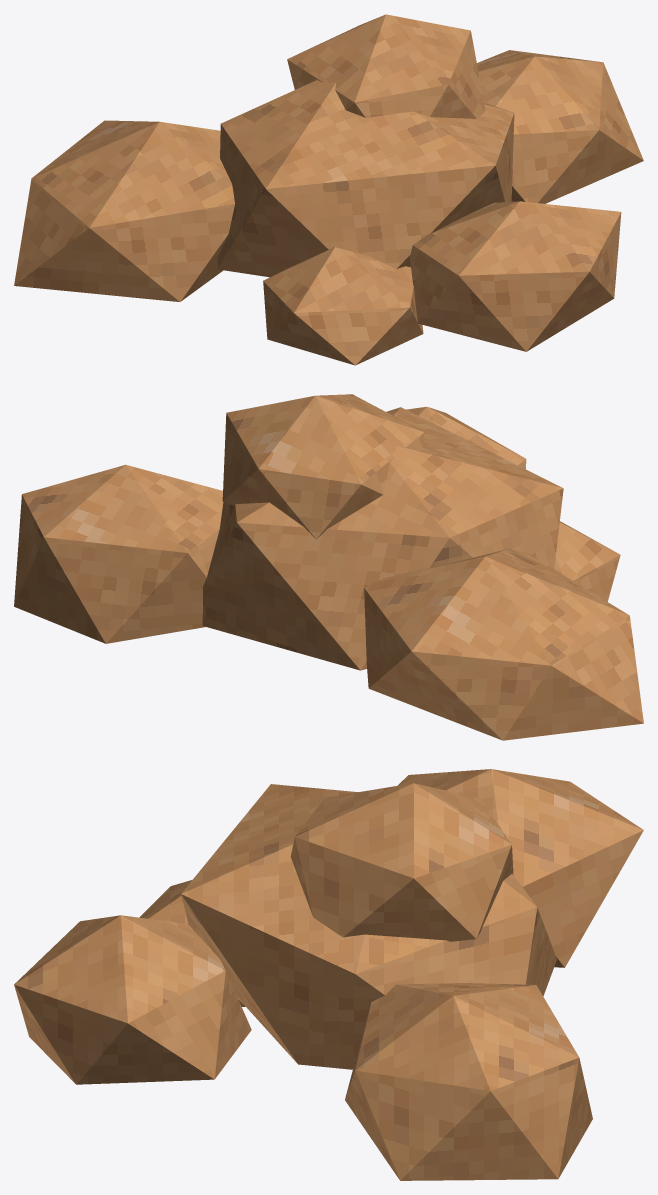
The model's file is desert_rockpile.glb.
The picture shows the model from 3 angles, top to bottom: view 1: azimuth 30°, elevation 25°; view 2: azimuth 150°, elevation 25°; view 3: azimuth 270°, elevation 25°; orthographic projection. The views are drawn at different scales.
Parts seen in each view (by area): view 1: RockPile; view 2: RockPile; view 3: RockPile.
Boxes of the visible parts, x1,y1,x2,y2 form: RockPile: (14, 14, 643, 365); RockPile: (14, 394, 643, 740); RockPile: (14, 769, 643, 1180).
Bounding box in the file's own units: 1.74 × 0.6199 × 1.31.
Materials: 1 (1 with a texture image).
